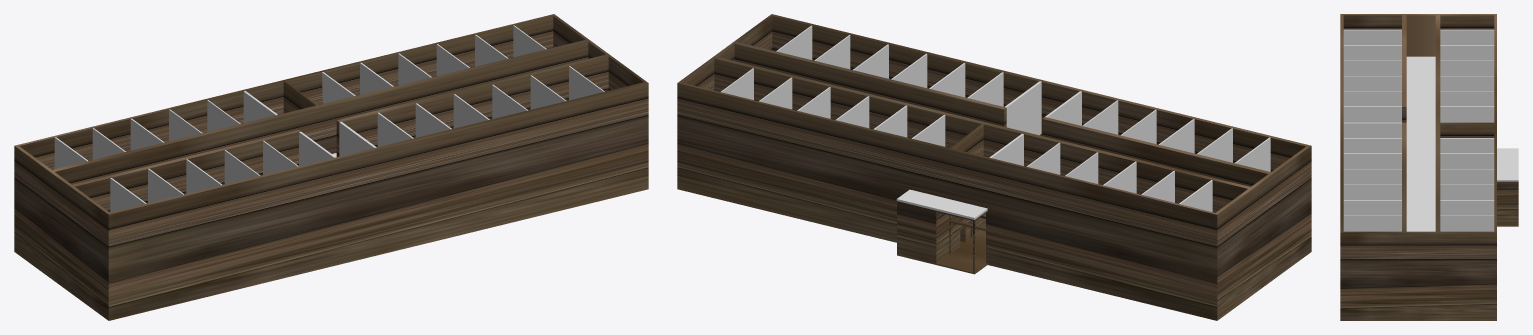
3 renders of one model, left to right at view 1: azimuth 30°, elevation 25°; view 2: azimuth 150°, elevation 25°; view 3: azimuth 270°, elevation 25°, orthographic. The views are drawn at different scales.
Visible parts, largest first — view 1: First Floor, Second Floor; view 2: First Floor, Second Floor; view 3: Second Floor, First Floor.
Boxes of the visible parts, bbox=[...] form: First Floor: bbox=[14, 14, 648, 320]; Second Floor: bbox=[54, 25, 604, 212]; First Floor: bbox=[677, 14, 1311, 320]; Second Floor: bbox=[721, 25, 1270, 219]; Second Floor: bbox=[1343, 29, 1518, 231]; First Floor: bbox=[1340, 14, 1518, 320].
Bounding box in the file's own units: 9498 × 1785 × 3273.
1 material, 1 textured.
